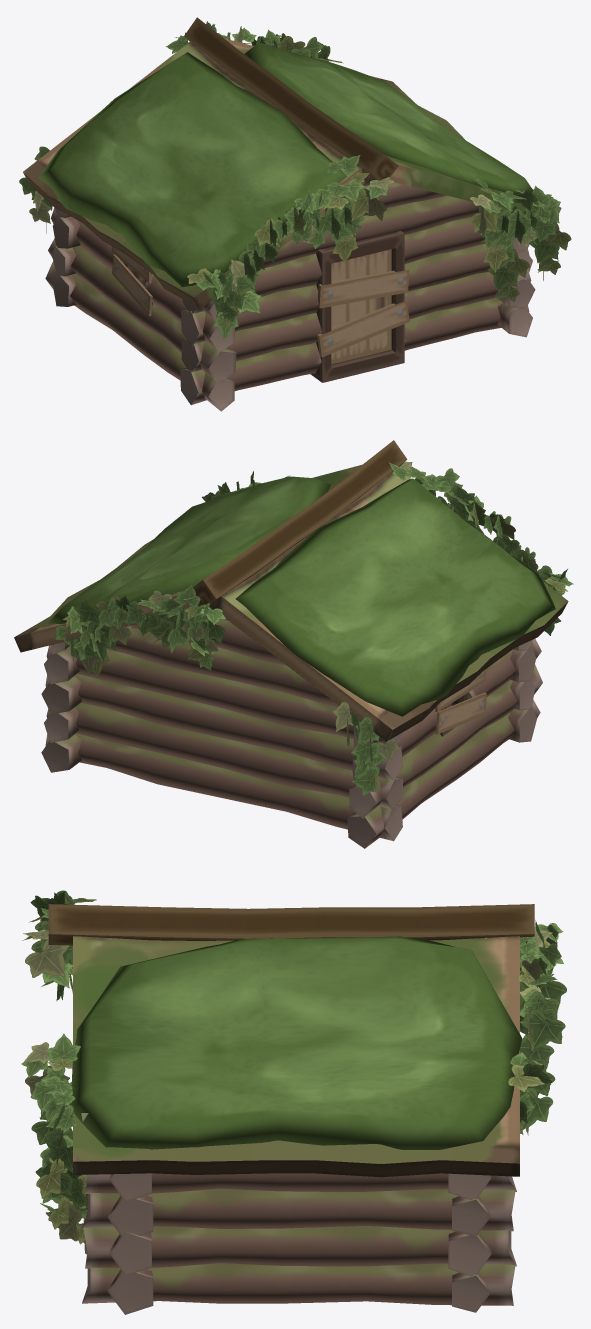
File: SM_Shed.fbx
3 views of the same model, one above another, from view 1: azimuth 30°, elevation 25°; view 2: azimuth 150°, elevation 25°; view 3: azimuth 270°, elevation 25° (orthographic). The views are drawn at different scales.
Parts seen in each view (by area): view 1: ToolShed, Ivy2; view 2: ToolShed, Ivy2; view 3: ToolShed, Ivy2.
Boxes of the visible parts, x1,y1,x2,y2 form: ToolShed: (23,17,561,411); Ivy2: (19,21,571,340); ToolShed: (14,440,568,848); Ivy2: (55,461,573,795); ToolShed: (48,904,534,1314); Ivy2: (21,890,566,1254).
Bounding box in the file's own units: 19.88 × 11.89 × 19.72.
